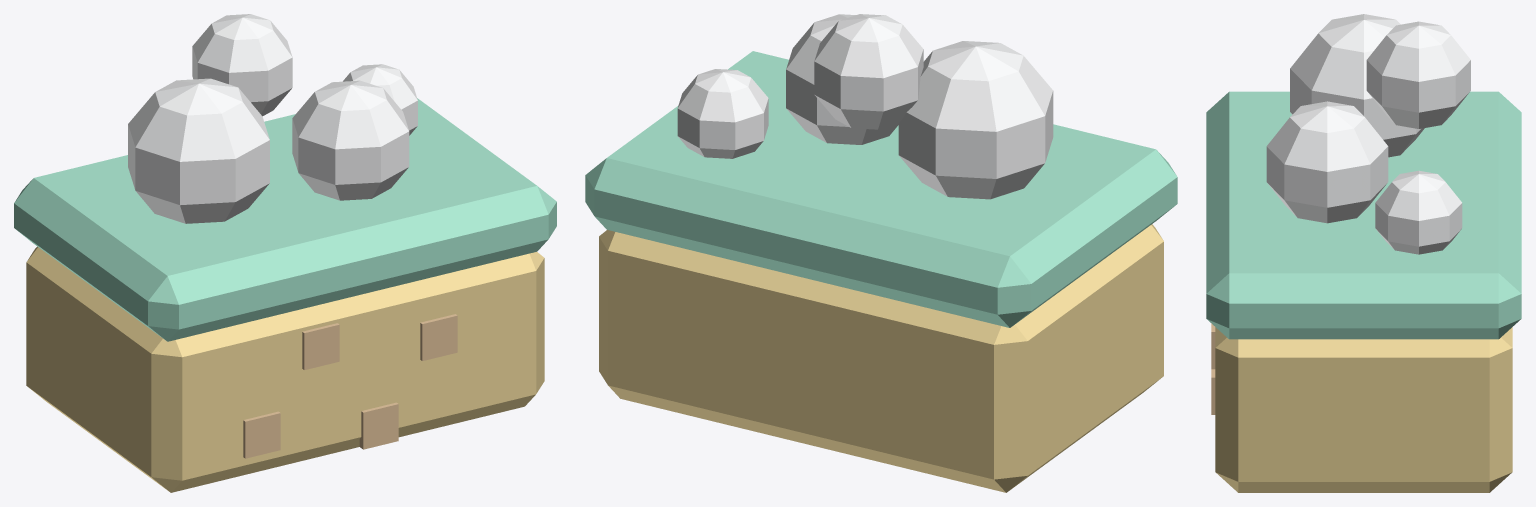
Rendered from CleanACat_Tool_SpongeBubble.fbx.
3 views of the same model, side by side, from view 1: azimuth 30°, elevation 25°; view 2: azimuth 150°, elevation 25°; view 3: azimuth 270°, elevation 25° (orthographic). The views are drawn at different scales.
Visible parts, largest first — view 1: CleanACat_Tool_SpongeBubble; view 2: CleanACat_Tool_SpongeBubble; view 3: CleanACat_Tool_SpongeBubble.
Boxes of the visible parts, box(x1,y1,x2,y2) form: CleanACat_Tool_SpongeBubble: box(14, 14, 556, 492); CleanACat_Tool_SpongeBubble: box(585, 14, 1177, 492); CleanACat_Tool_SpongeBubble: box(1206, 14, 1521, 492).
Size of the model in its own units: 1.25 by 1.08 by 0.828.
1 material, 1 textured.
